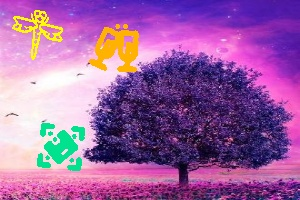方向: (39, 123, 83, 171)
碰杯: (89, 24, 140, 74)
蜻蜓: (13, 10, 63, 58)
